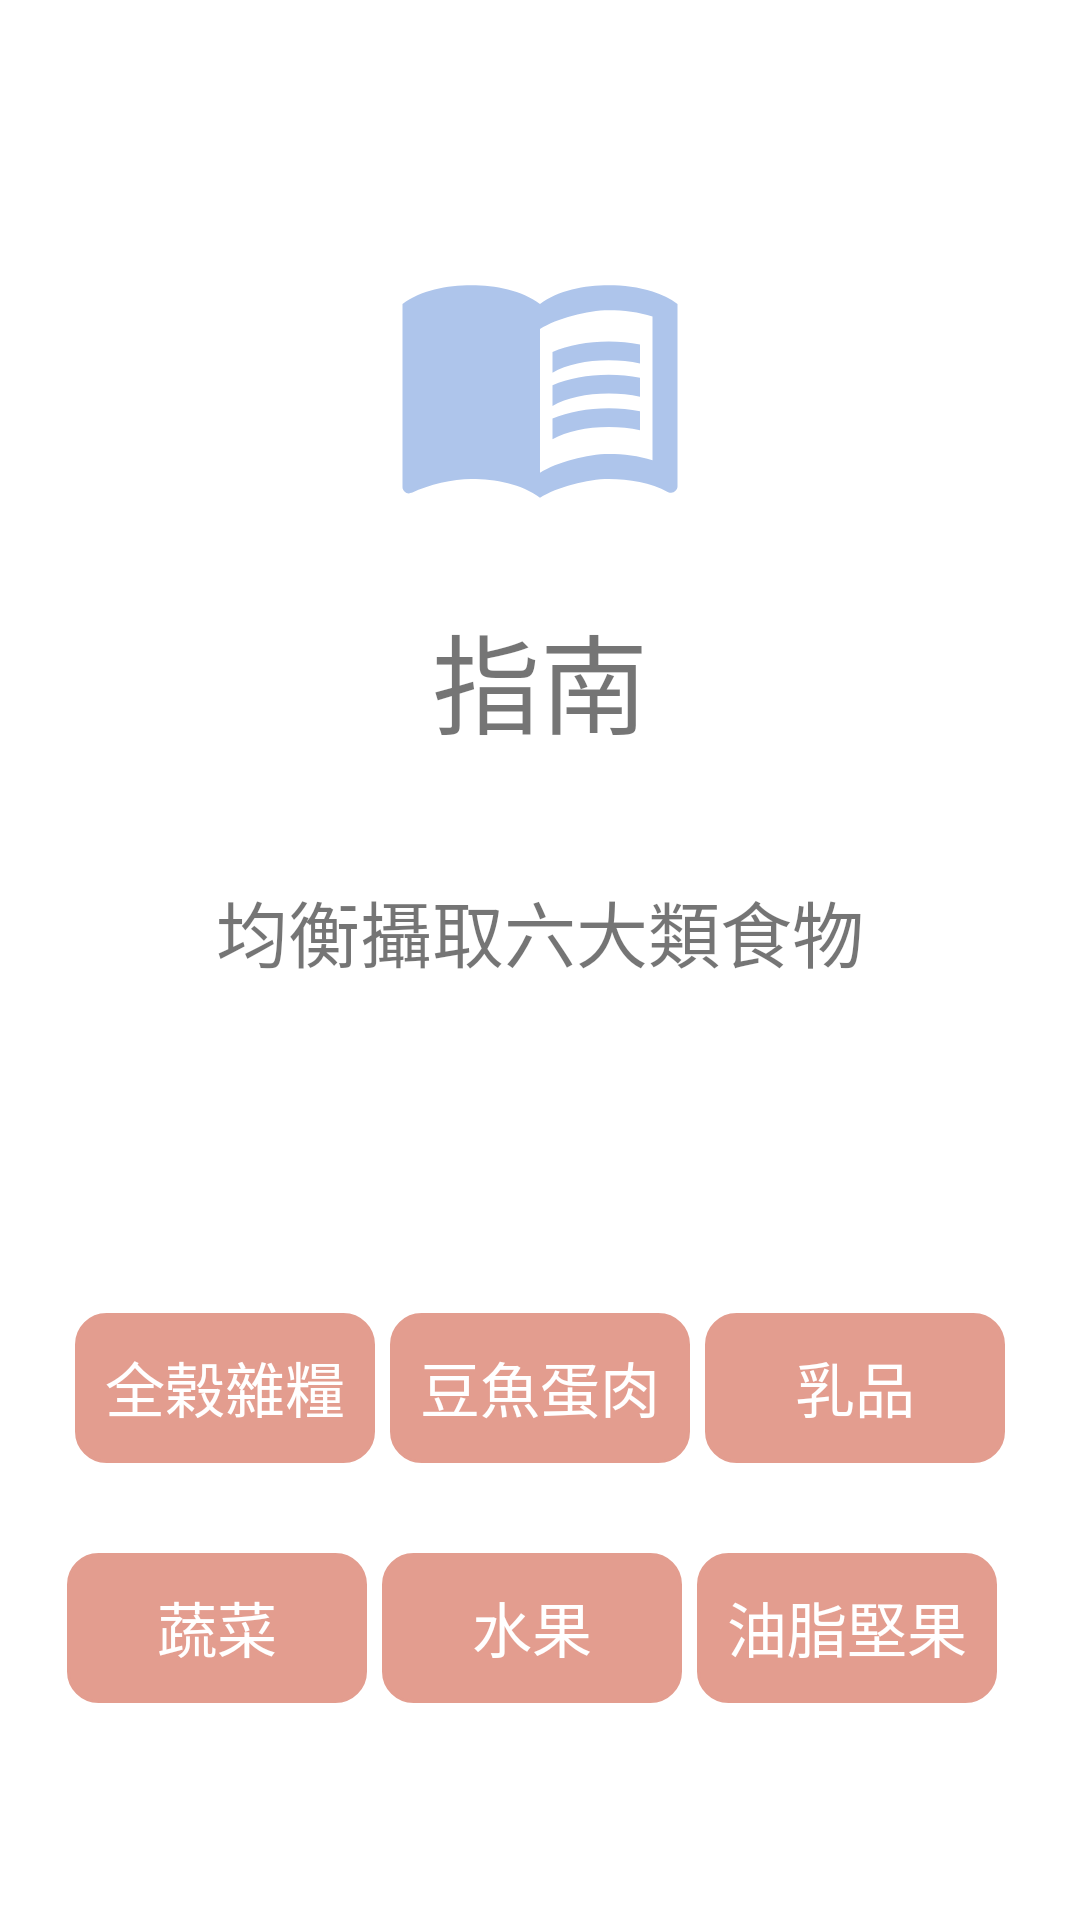

Where to tap for icons on this 1080*1920 app screen, as [x,y]:
book: [540,391]
